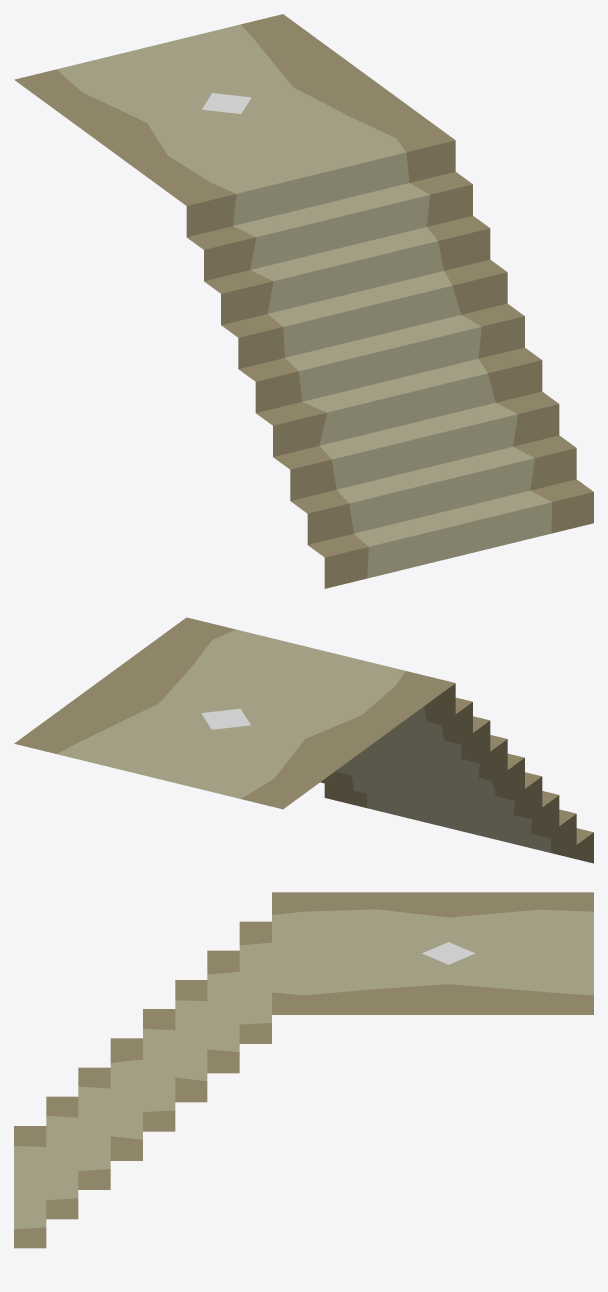
File: 45s Right Straight.fbx
3 views of the same model, one above another, from view 1: azimuth 30°, elevation 25°; view 2: azimuth 150°, elevation 25°; view 3: azimuth 270°, elevation 25° (orthographic). The views are drawn at different scales.
Parts seen in each view (by area): view 1: polySurface7473; view 2: polySurface7473; view 3: polySurface7473.
Part boxes in pixels (<box>): polySurface7473: <box>14,14,593,588</box>; polySurface7473: <box>14,617,593,863</box>; polySurface7473: <box>14,892,593,1248</box>.
Bounding box in the file's own units: 100 × 100 × 200.
